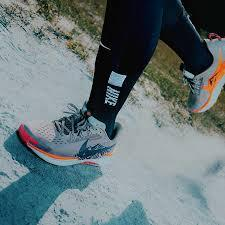nike logo: (76, 134, 118, 163)
